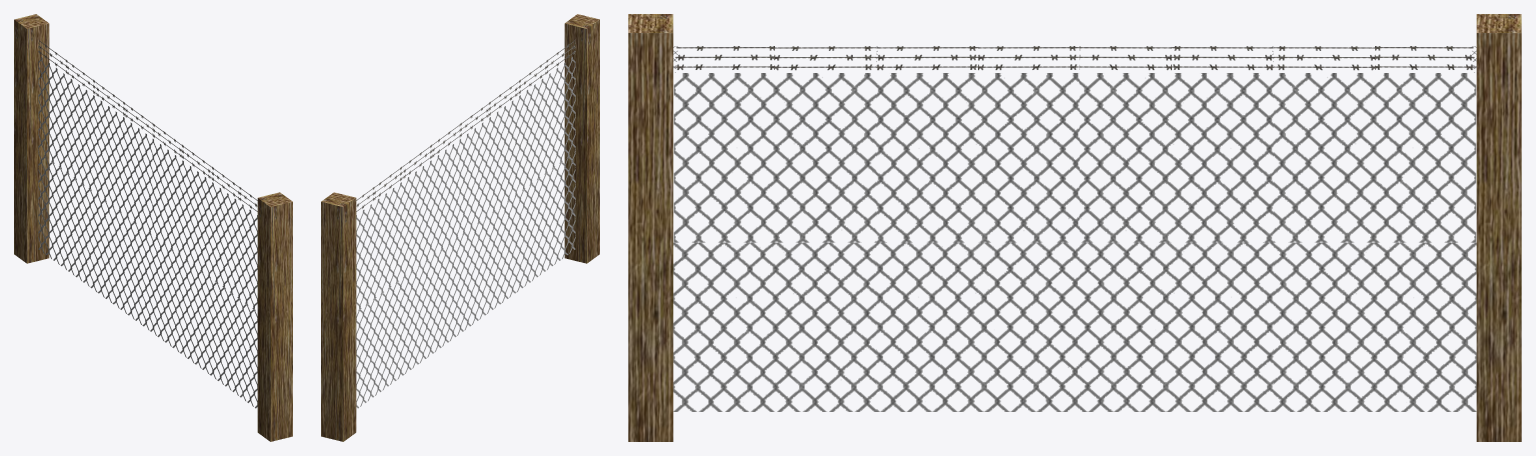
Rendered from Barbed_Wire_Fence_Wide.gltf.
3 renders of one model, left to right at view 1: azimuth 30°, elevation 25°; view 2: azimuth 150°, elevation 25°; view 3: azimuth 270°, elevation 25°, orthographic. The views are drawn at different scales.
Parts seen in each view (by area): view 1: node1; view 2: node1; view 3: node1.
Boxes of the visible parts, box(x1,y1,x2,y2) form: node1: box(14, 14, 292, 441); node1: box(321, 14, 599, 441); node1: box(628, 14, 1521, 441).
Bounding box in the file's own units: 0.1 × 1 × 1.98.
